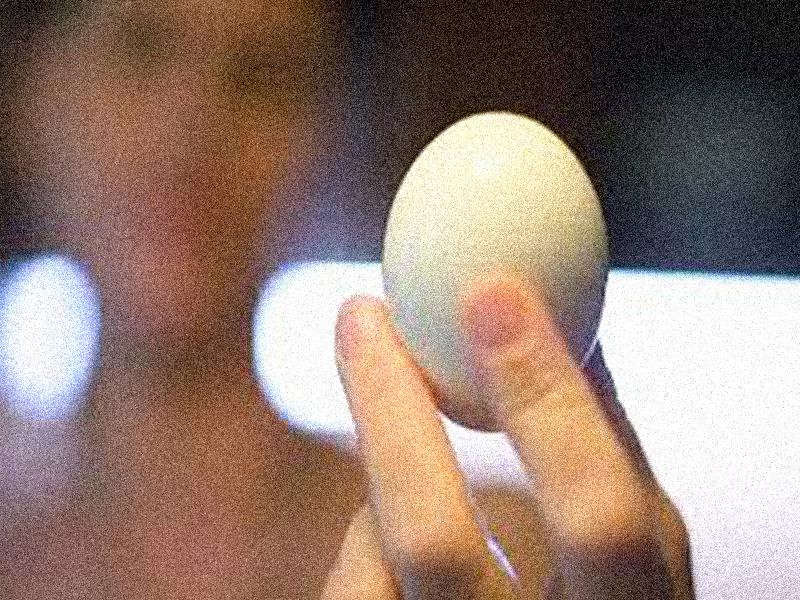Eggs: (377, 111, 604, 433)
